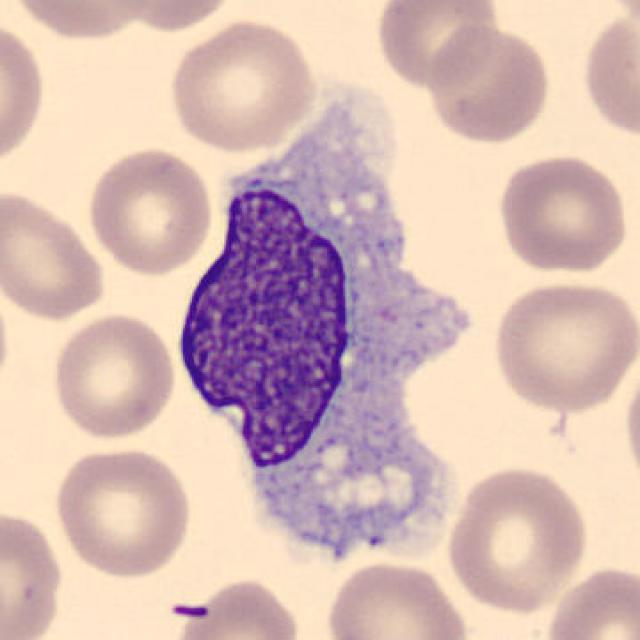Monocyte: (167, 83, 491, 580)
RBC: (443, 462, 592, 615), (165, 16, 320, 155), (487, 277, 638, 414), (50, 443, 194, 580), (83, 143, 217, 277), (48, 308, 180, 442), (492, 150, 633, 275), (423, 21, 555, 145), (0, 183, 110, 323), (322, 557, 474, 640), (372, 0, 503, 92), (0, 504, 68, 638), (164, 575, 304, 640), (578, 7, 638, 143), (0, 14, 48, 176), (540, 562, 638, 640), (6, 0, 166, 44), (101, 0, 241, 35), (620, 349, 640, 496)
